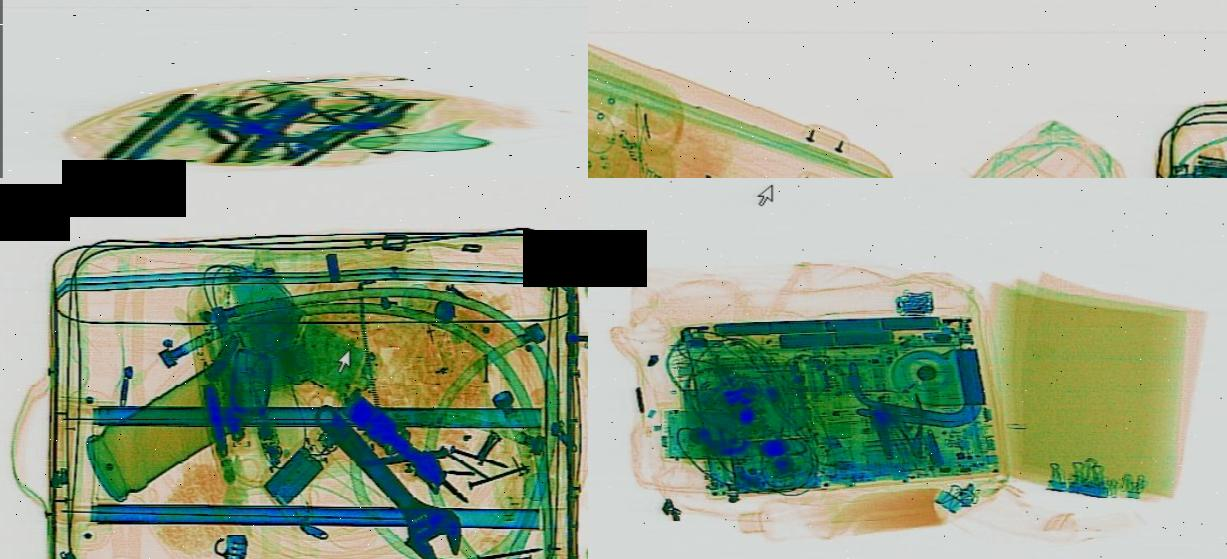Pliers: (229, 102, 387, 155), (877, 391, 942, 459)
Wrench: (289, 393, 486, 559)
